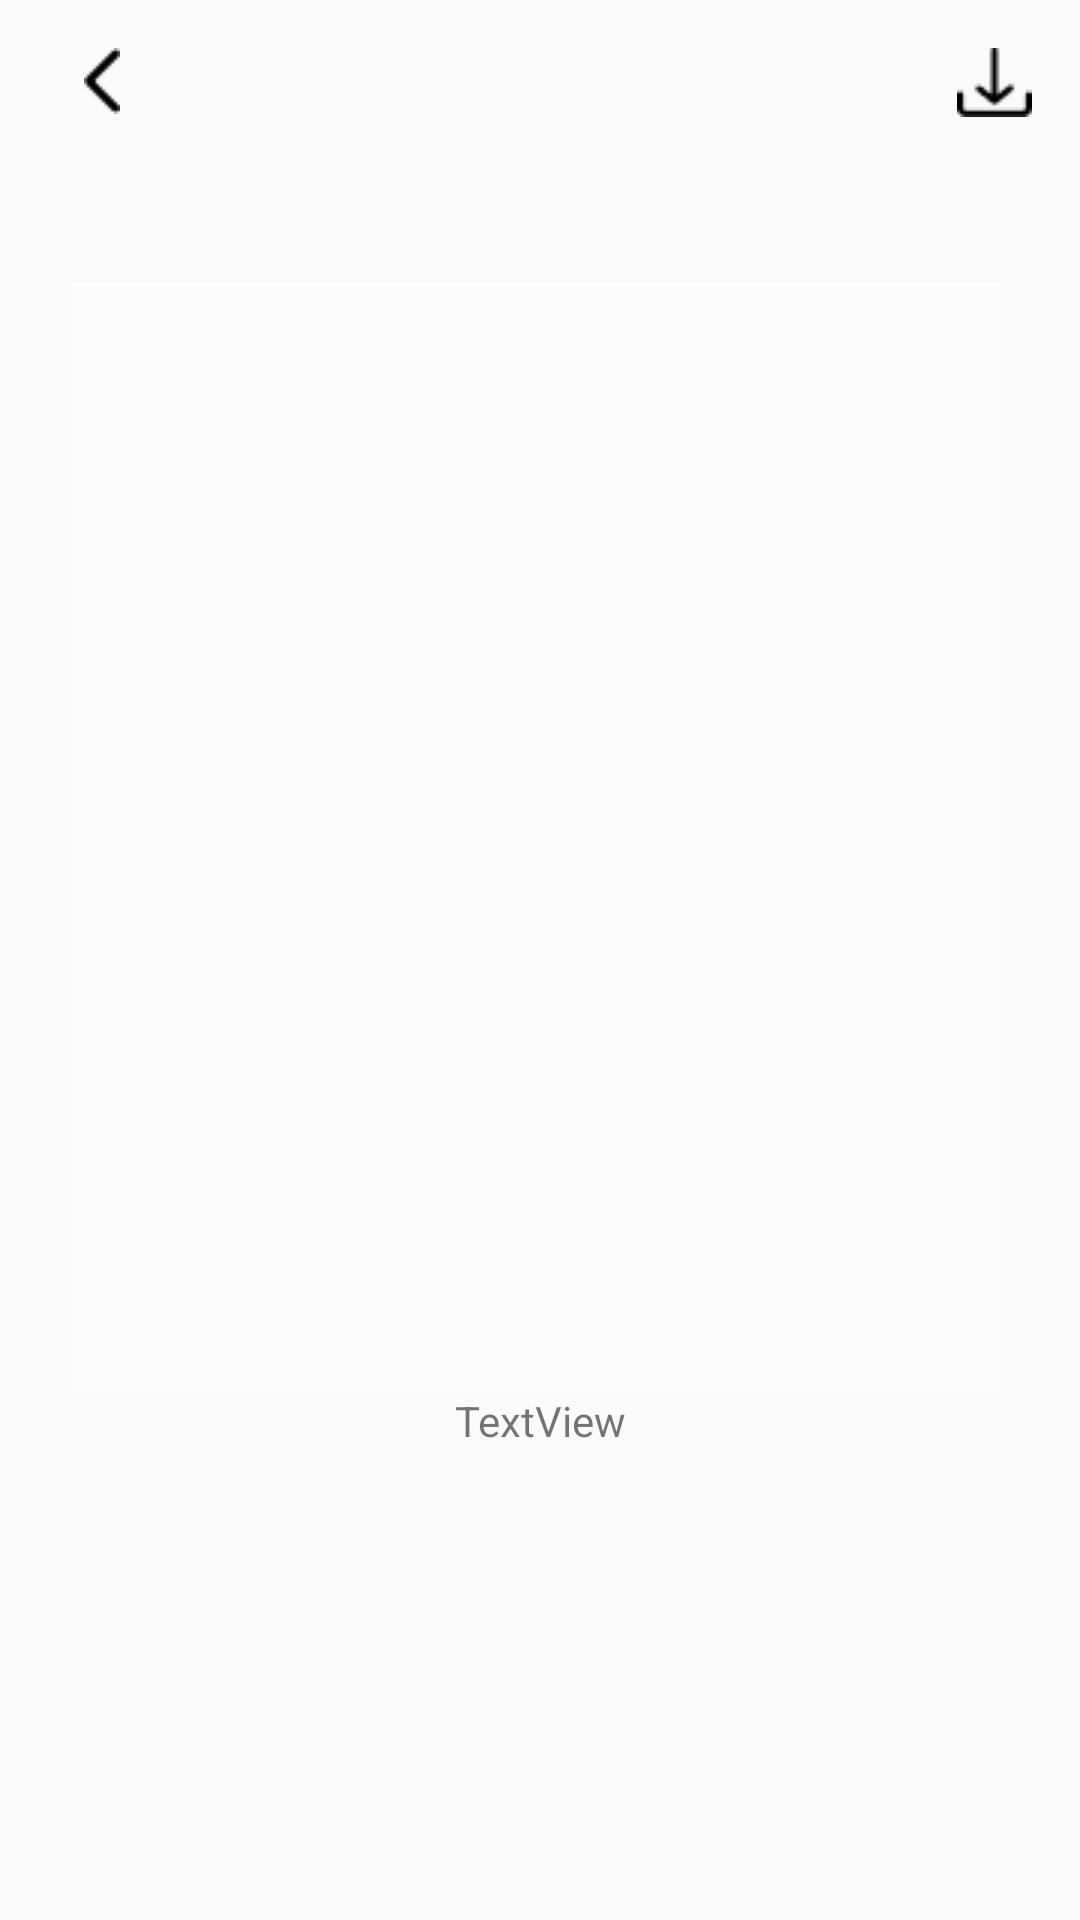

Named icons in this screenshot (1080px x 1920px) and their centers, [x,y]:
backvector: [102,81]
downloadvector: [994,82]
